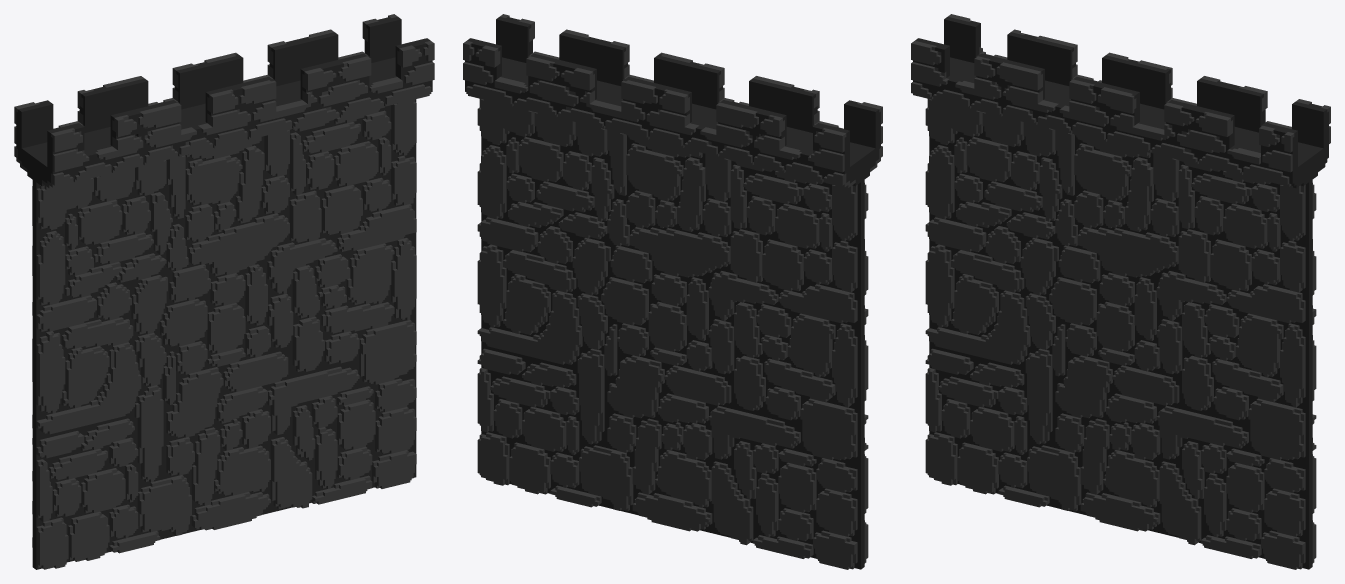
File: wall2.glb
3 renders of one model, left to right at view 1: azimuth 30°, elevation 25°; view 2: azimuth 150°, elevation 25°; view 3: azimuth 330°, elevation 25°, orthographic.
Parts seen in each view (by area): view 1: Untitled.001; view 2: Untitled.001; view 3: Untitled.001.
Boxes of the visible parts, x1=… form: Untitled.001: x1=14, y1=14, x2=434, y2=569; Untitled.001: x1=463, y1=14, x2=882, y2=569; Untitled.001: x1=911, y1=14, x2=1330, y2=569.
Size of the model in its own units: 12 by 13.5 by 2.2.
1 material, 1 textured.
